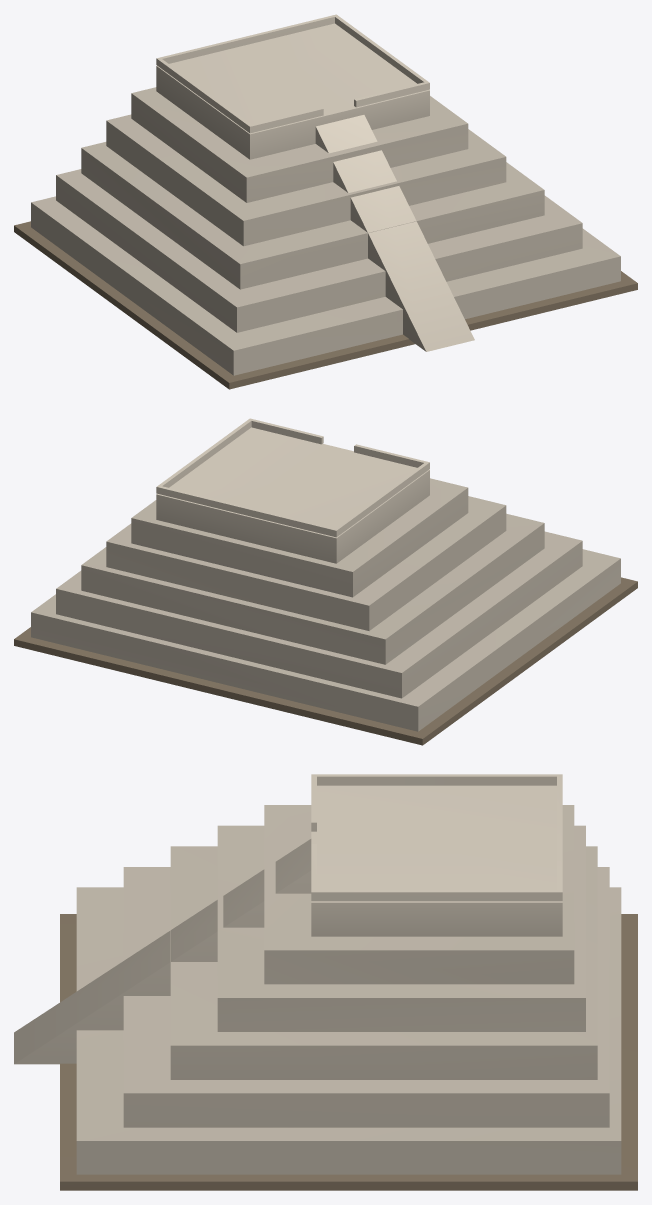
The model's file is caral_pyramid_mayor_phase3_lod1.glb.
3 renders of one model, top to bottom at view 1: azimuth 30°, elevation 25°; view 2: azimuth 150°, elevation 25°; view 3: azimuth 270°, elevation 25°, orthographic. The views are drawn at different scales.
Visible parts, largest first — view 1: GEO-Arch_pyramid_mayor_phase3_LOD1; view 2: GEO-Arch_pyramid_mayor_phase3_LOD1; view 3: GEO-Arch_pyramid_mayor_phase3_LOD1.
Part boxes in pixels (x1,y1,x2,y2): GEO-Arch_pyramid_mayor_phase3_LOD1: [14, 14, 637, 389]; GEO-Arch_pyramid_mayor_phase3_LOD1: [14, 418, 637, 745]; GEO-Arch_pyramid_mayor_phase3_LOD1: [14, 774, 637, 1190].
Bounding box in the file's own units: 45.4 × 17.65 × 44.7.
